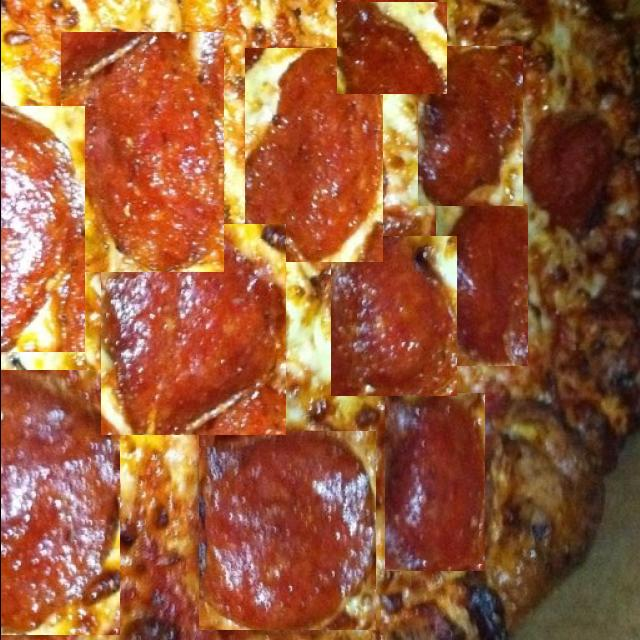pepperoni: (60, 32, 223, 272), (100, 224, 285, 435), (198, 431, 375, 630), (0, 370, 119, 635), (244, 48, 382, 262), (0, 106, 84, 352), (330, 236, 456, 396), (384, 393, 484, 571), (417, 46, 522, 206), (435, 203, 527, 366), (528, 110, 614, 236), (336, 2, 446, 94)
pizza: (0, 0, 640, 640)
